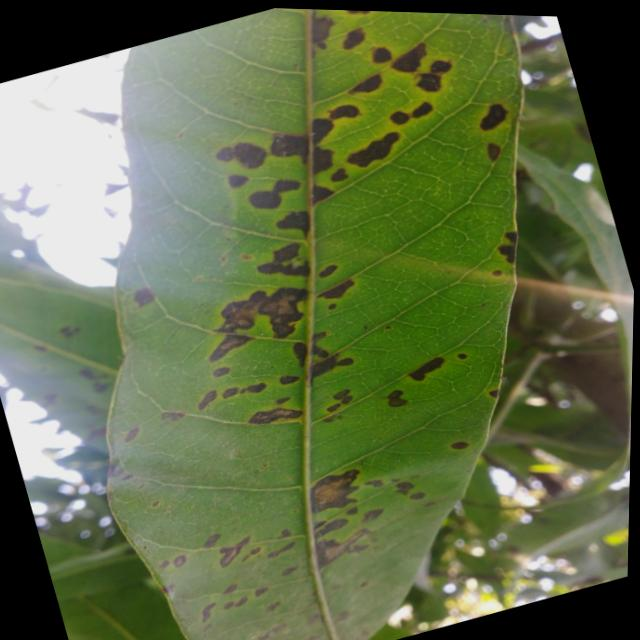Anthracnose: (231, 46, 480, 237), (188, 245, 395, 420), (255, 454, 421, 594)
